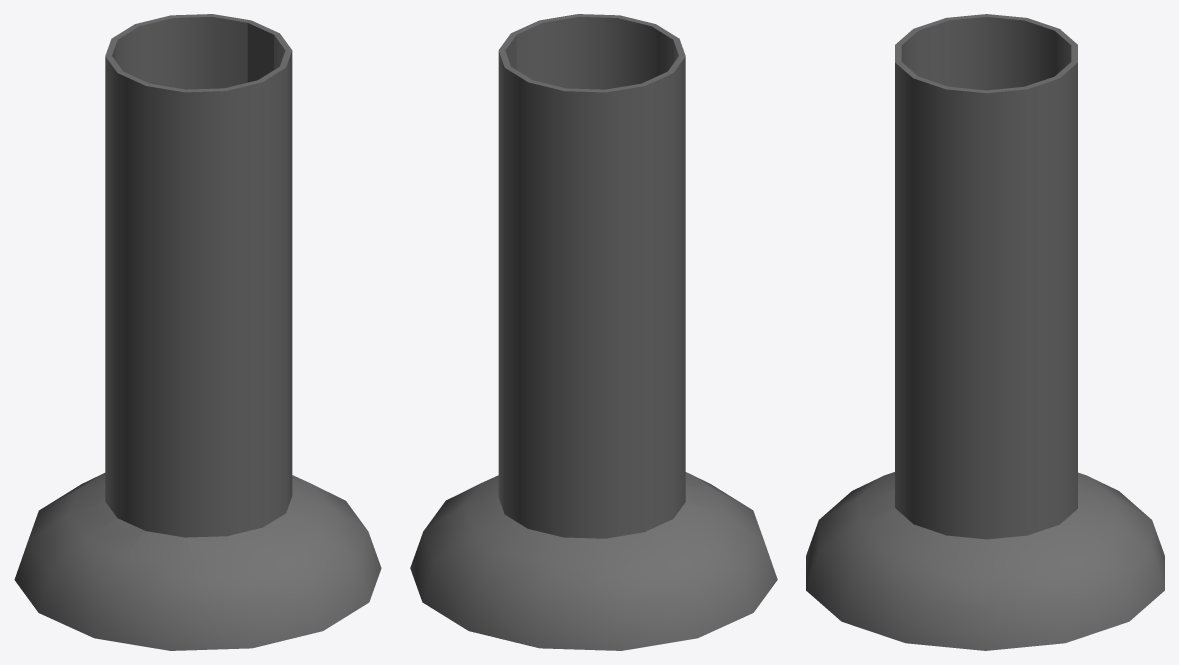
Rendered from forcep hoder.FBX.
3 renders of one model, left to right at view 1: azimuth 30°, elevation 25°; view 2: azimuth 150°, elevation 25°; view 3: azimuth 270°, elevation 25°, orthographic.
Parts seen in each view (by area): view 1: forcep holder; view 2: forcep holder; view 3: forcep holder.
Boxes of the visible parts, x1,y1,x2,y2 form: forcep holder: [14, 14, 381, 650]; forcep holder: [410, 14, 777, 650]; forcep holder: [806, 14, 1164, 650].
Size of the model in its own units: 5.49 by 5.35 by 8.55.
